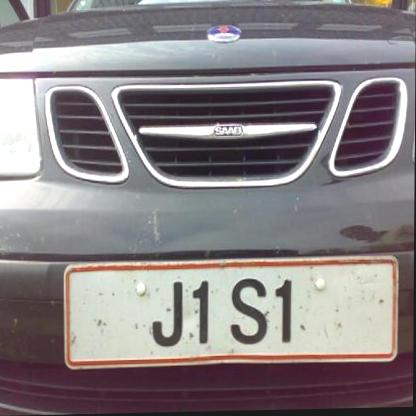License_Plate: (63, 255, 399, 372)
